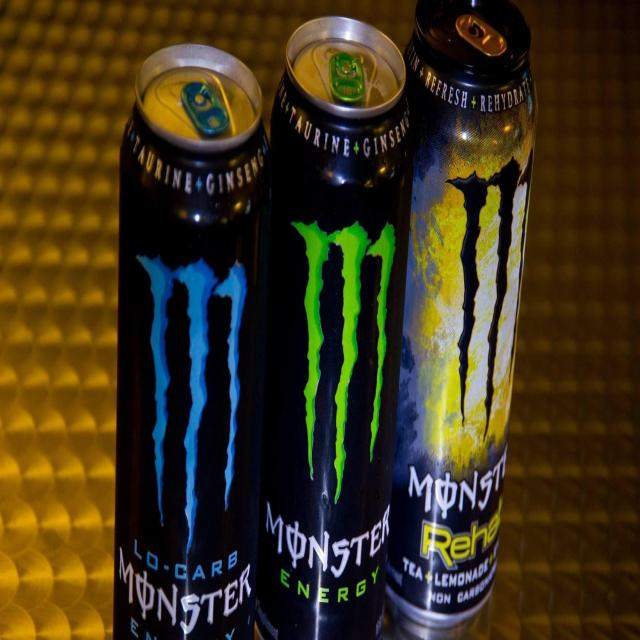tin can: (386, 1, 538, 634), (112, 40, 272, 639), (260, 16, 414, 638)
